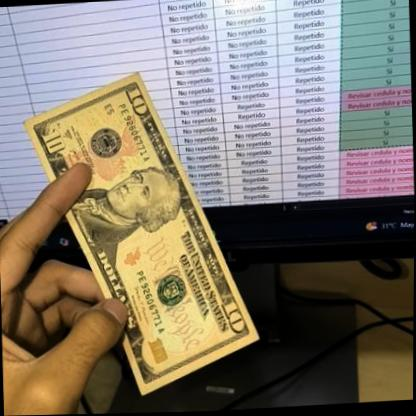ten-front: (18, 66, 260, 404)
